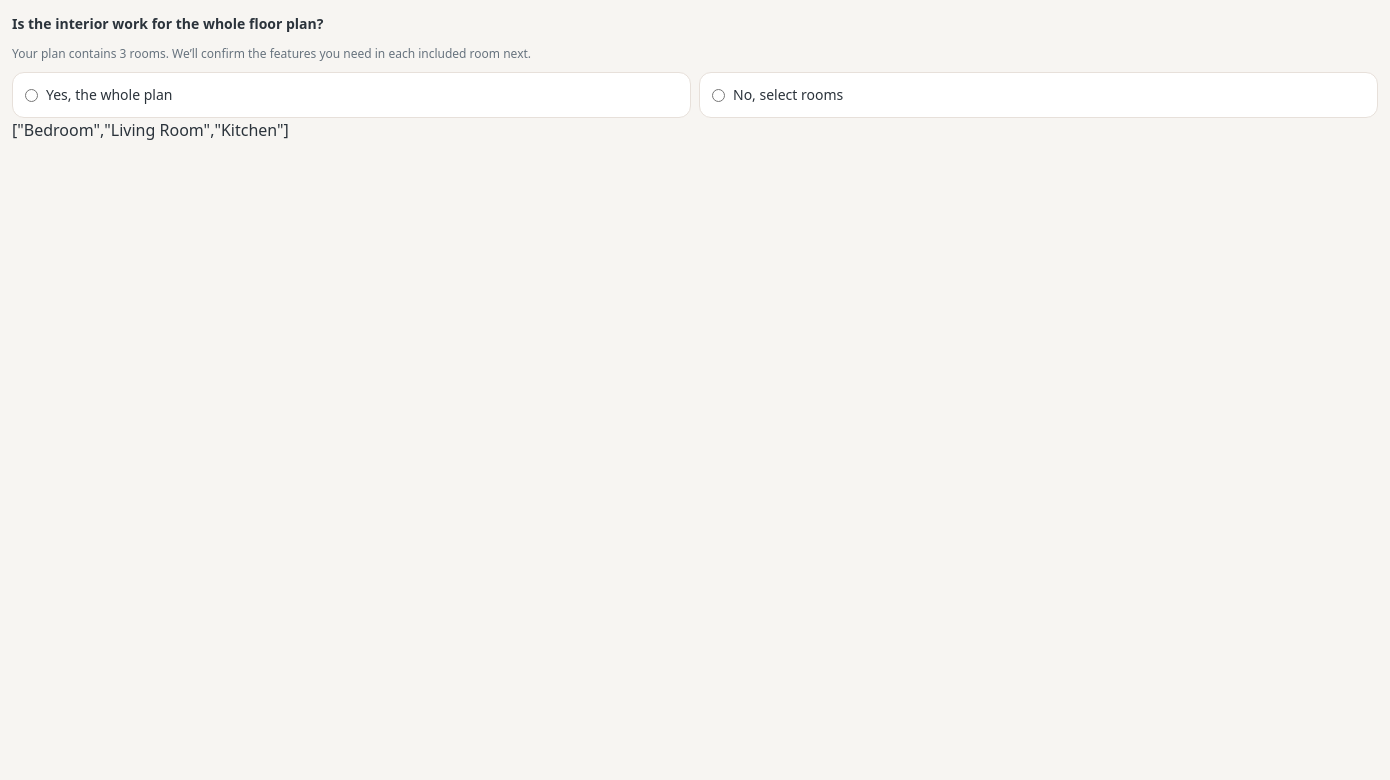
Test: asks about the whole plan first and clears assumed room selection when the answer is No
Click the radio button labelled "No, select rooms": (718, 95) x1=712 y1=88 x2=725 y2=102
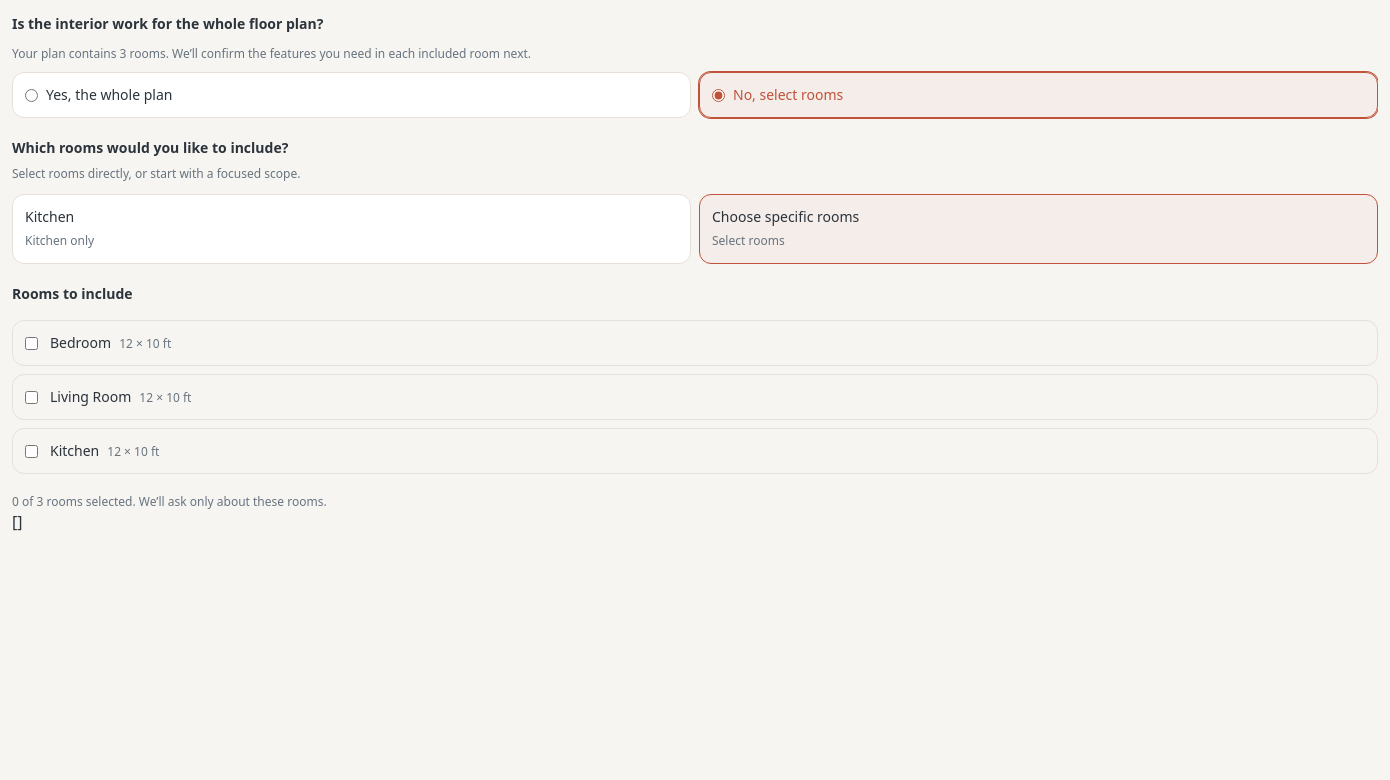
Expected: the checkbox labelled "Living Room12 × 10 ft" is not checked
Click the checkbox labelled "Living Room12 × 10 ft": (32, 397) x1=25 y1=390 x2=38 y2=404
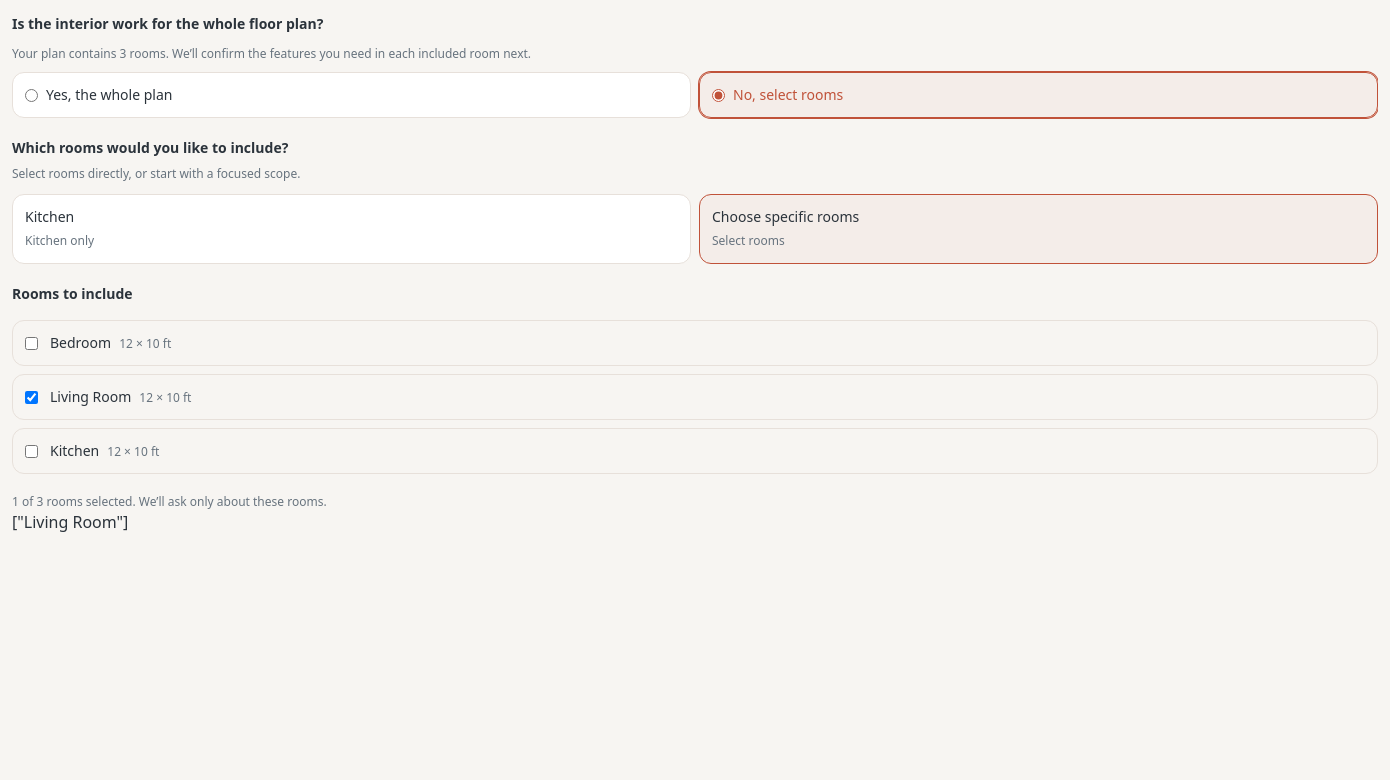
Expected: the text "[\"Living Room\"]" is shown, x1=12 y1=511 x2=128 y2=533
Expected: the text "1 of 3 rooms selected. We’ll ask only about these rooms." is shown, x1=12 y1=493 x2=327 y2=510
